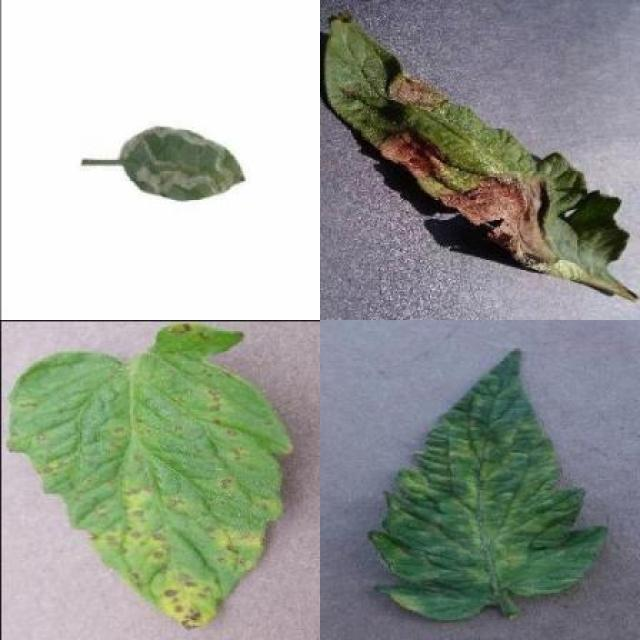Late Blight: (326, 9, 634, 304)
Leaf Miner: (119, 128, 245, 202)
Leaf Mold: (370, 348, 613, 618)
Septoria: (5, 320, 292, 627)
